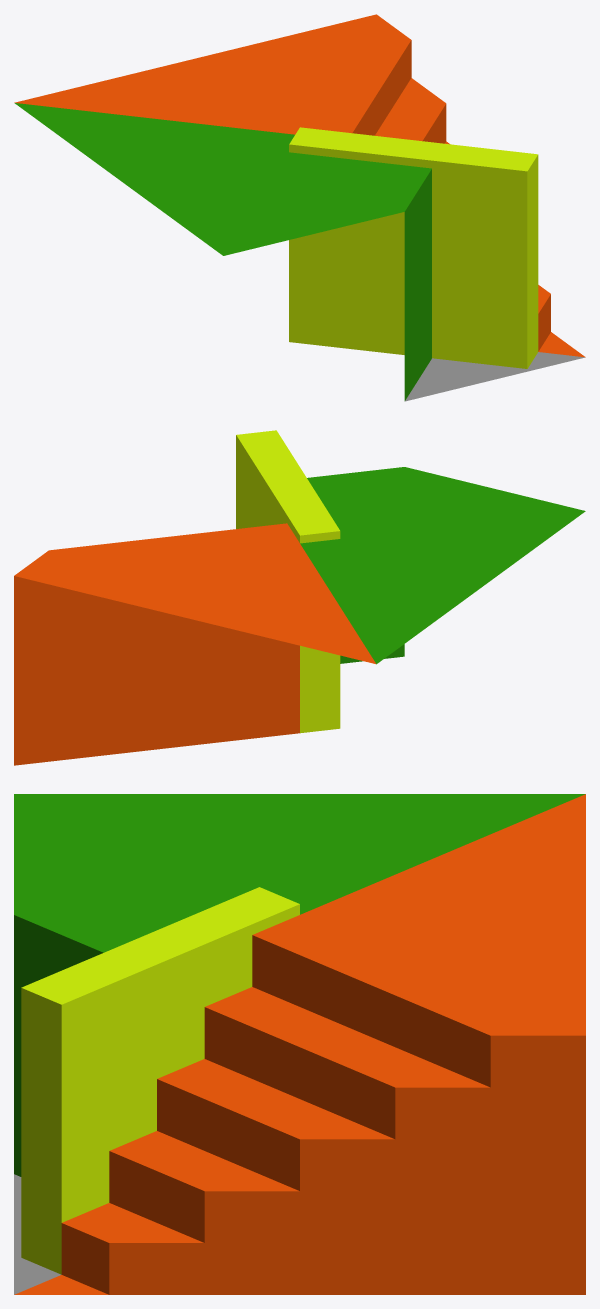
3 renders of one model, top to bottom at view 1: azimuth 30°, elevation 25°; view 2: azimuth 150°, elevation 25°; view 3: azimuth 270°, elevation 25°, orthographic. The views are drawn at different scales.
Visible parts, largest first — view 1: T_7_c_0; view 2: T_7_c_0; view 3: T_7_c_0.
Boxes of the visible parts, box(x1,y1,x2,y2) form: T_7_c_0: box(14, 14, 585, 401); T_7_c_0: box(14, 430, 585, 765); T_7_c_0: box(14, 794, 585, 1294).
Size of the model in its own units: 99.79 by 51.98 by 99.81.
